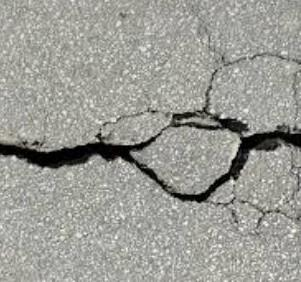crack: (6, 126, 301, 204), (192, 49, 301, 111)
